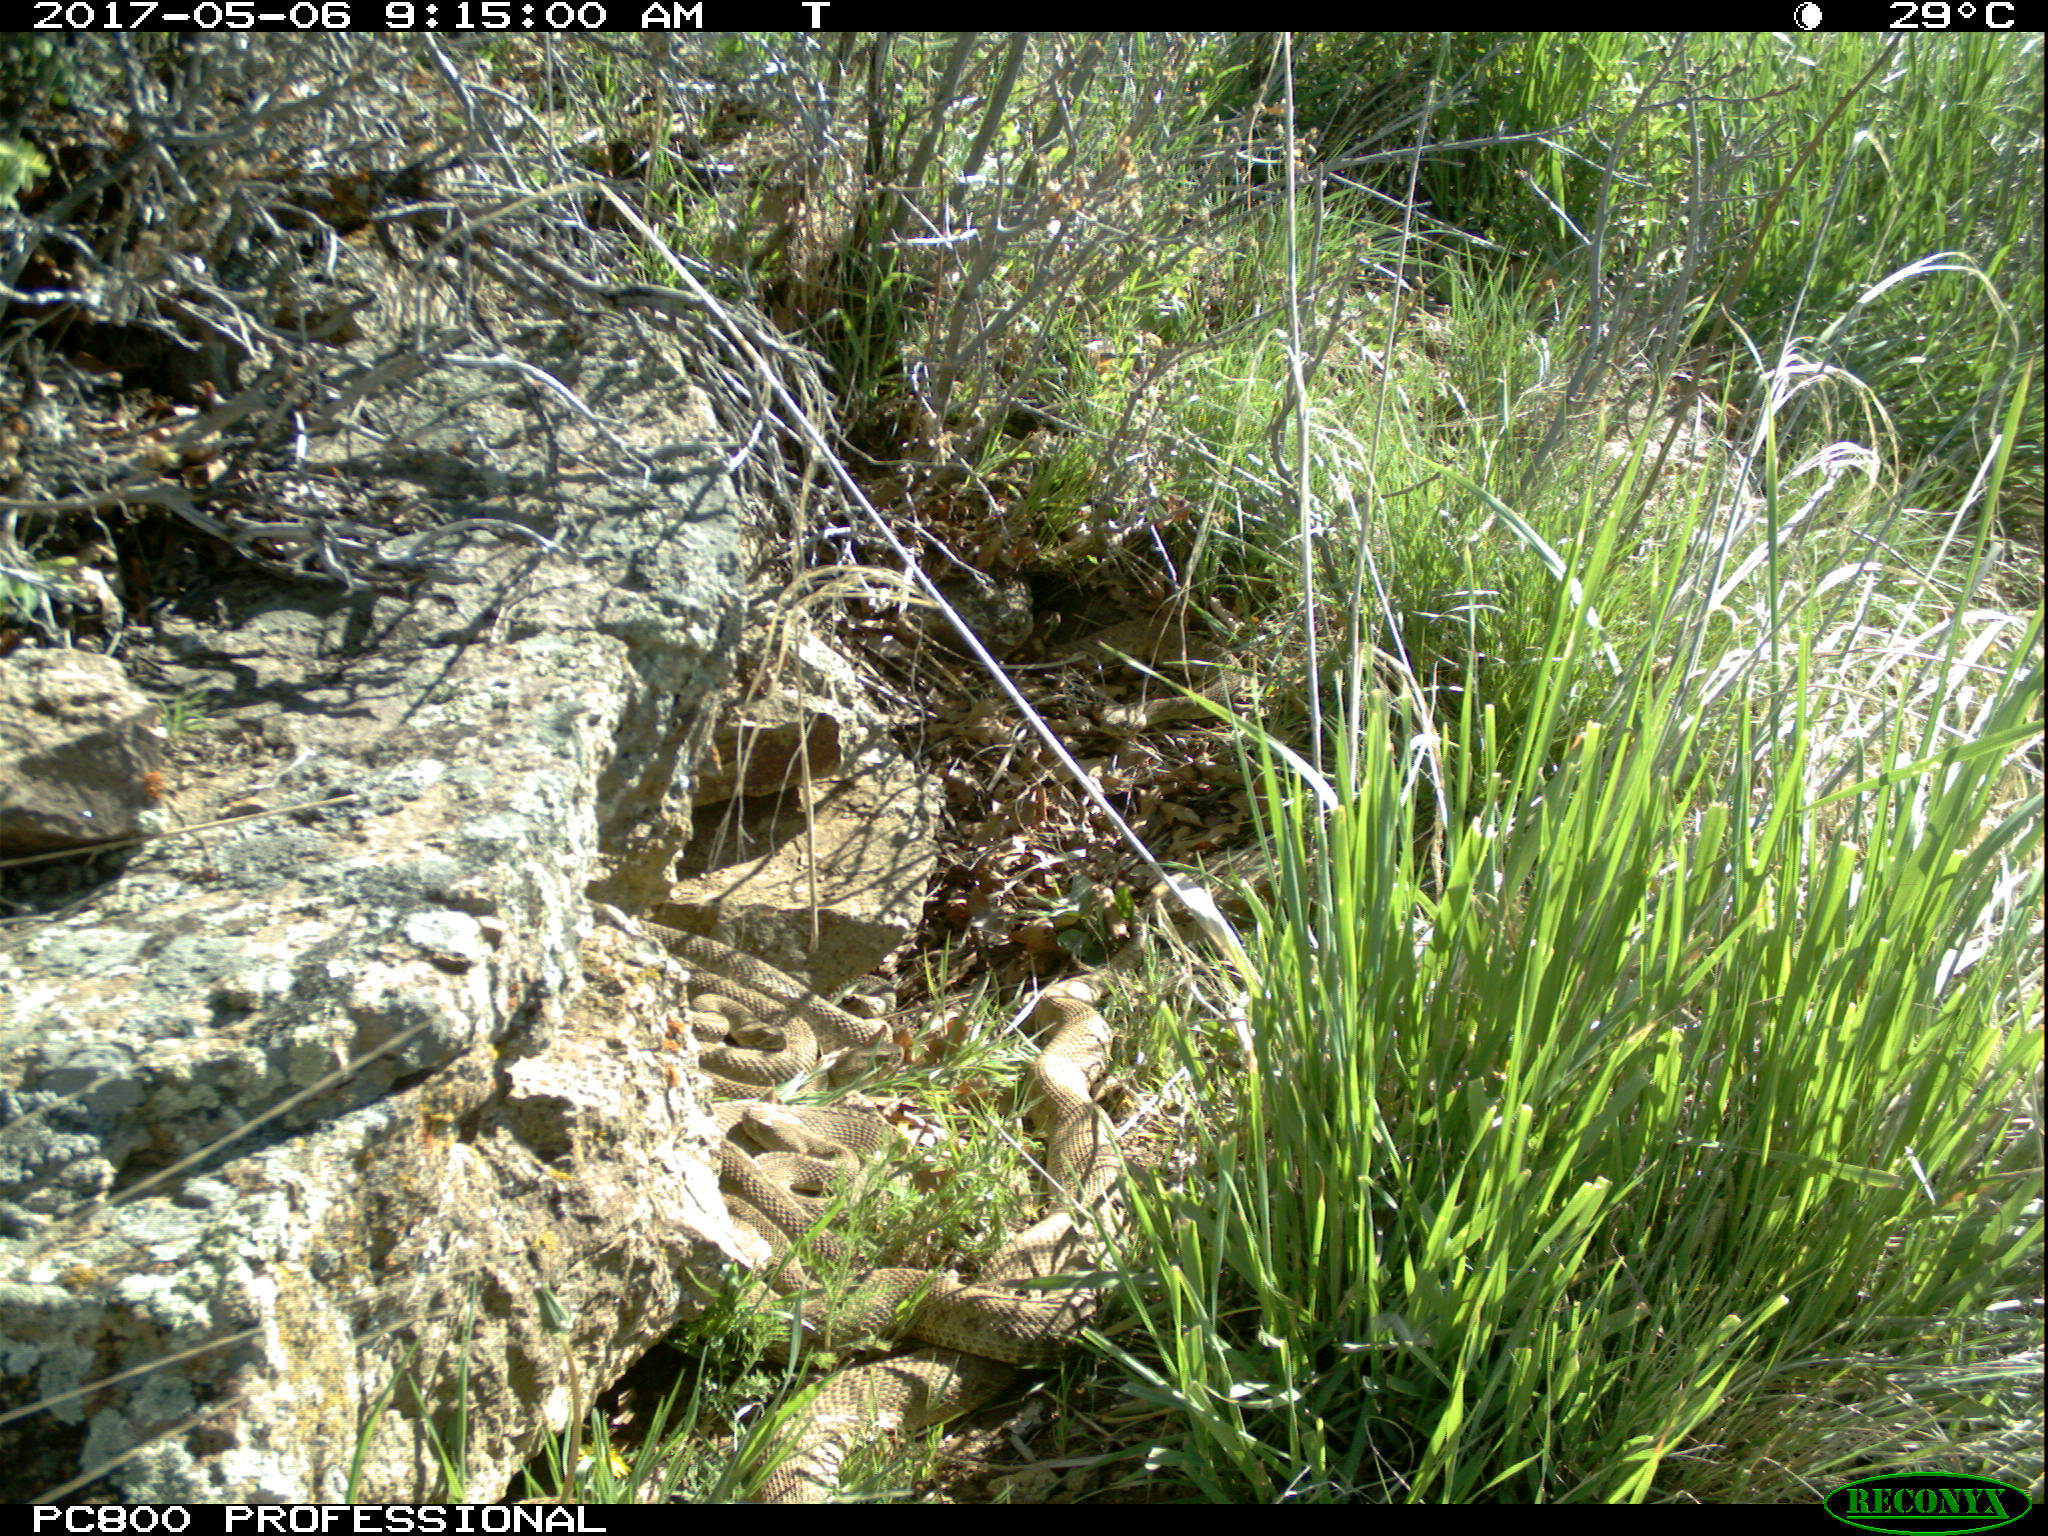snake: (643, 920, 924, 1113), (703, 1100, 935, 1247), (753, 1362, 985, 1502), (822, 1263, 1121, 1362), (1026, 971, 1122, 1270), (1059, 624, 1255, 721)
